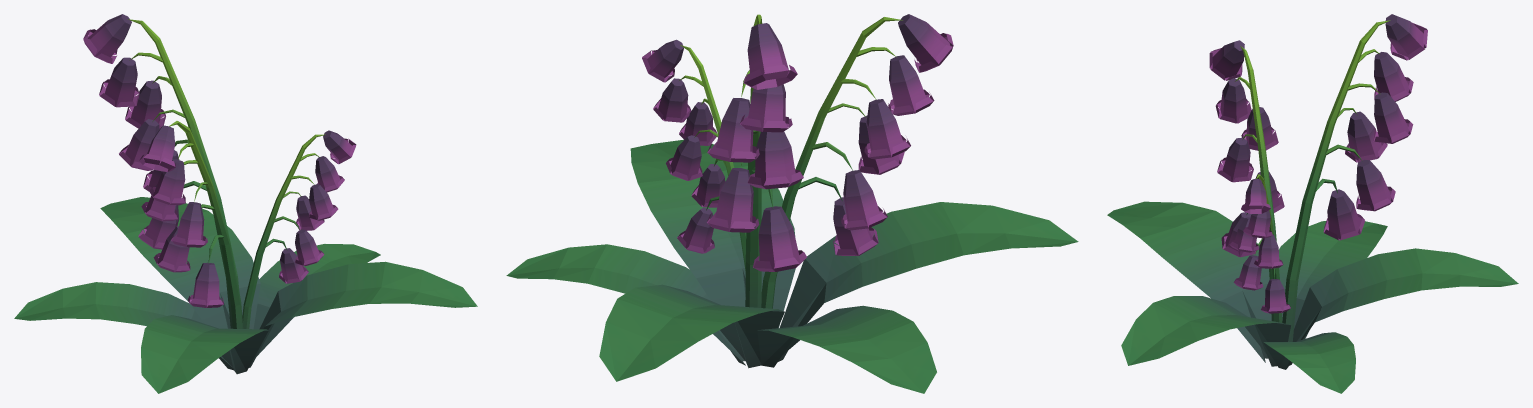
File: 水中紫色花.fbx
The picture shows the model from 3 angles, left to right: view 1: azimuth 30°, elevation 25°; view 2: azimuth 150°, elevation 25°; view 3: azimuth 270°, elevation 25°; orthographic projection. The views are drawn at different scales.
Visible parts, largest first — view 1: Flower.005_Base_Material_0; view 2: Flower.005_Base_Material_0; view 3: Flower.005_Base_Material_0.
Boxes of the visible parts, bbox=[...] form: Flower.005_Base_Material_0: bbox=[14, 14, 477, 393]; Flower.005_Base_Material_0: bbox=[506, 14, 1078, 393]; Flower.005_Base_Material_0: bbox=[1107, 14, 1518, 393].
Bounding box in the file's own units: 296 × 265 × 310.
